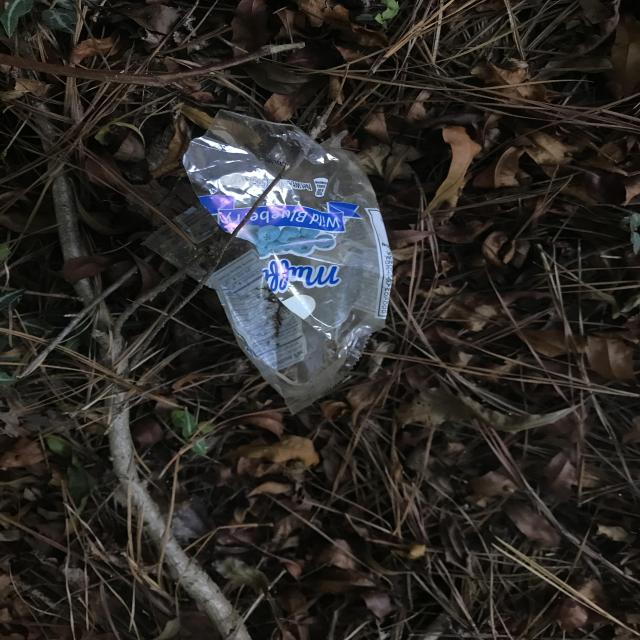litter: (161, 96, 392, 420)
